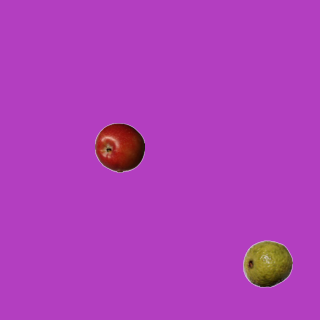Apple Braeburn: (94, 122, 144, 172)
Guava: (242, 238, 292, 288)
